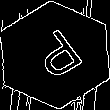P_SE: (22, 24, 88, 86)
